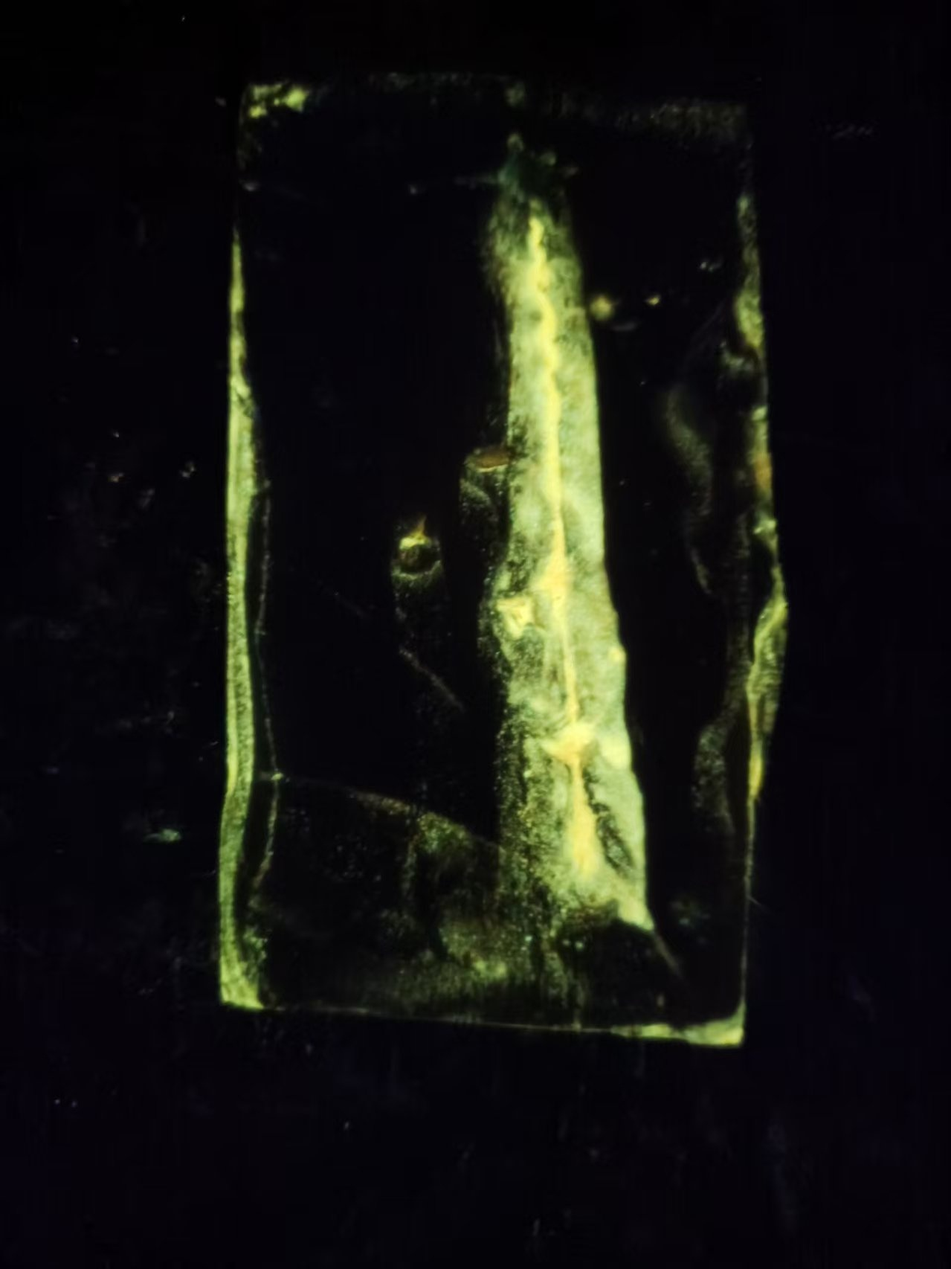Fissure: (469, 162, 679, 969), (189, 200, 293, 1040)
